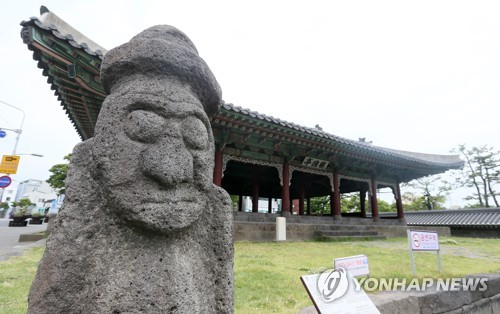Stone Statue: (15, 22, 246, 314)
